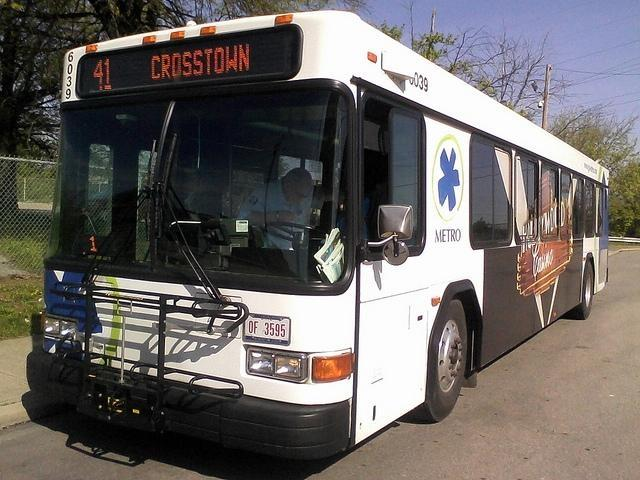bus: (24, 8, 610, 462)
